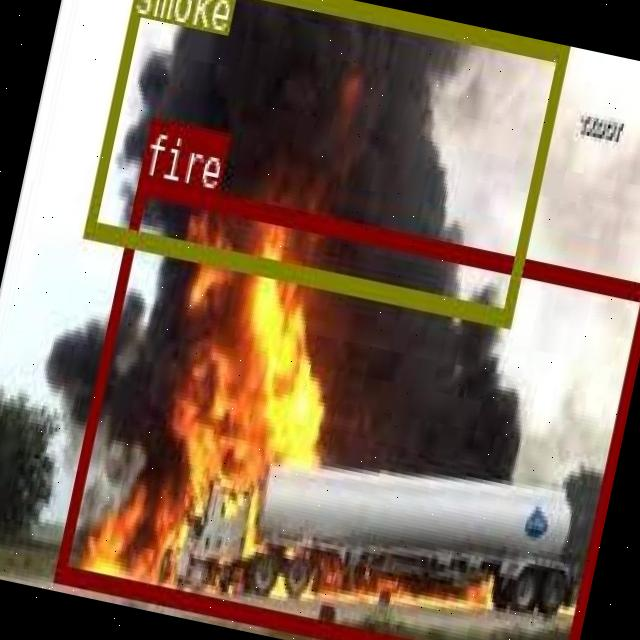fire: (53, 174, 640, 640)
smoke: (82, 0, 567, 325)
